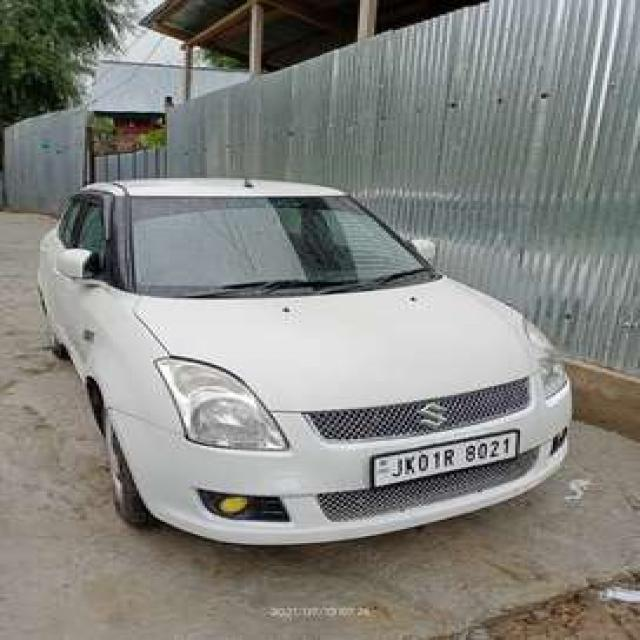Plate: (371, 431, 517, 484)
